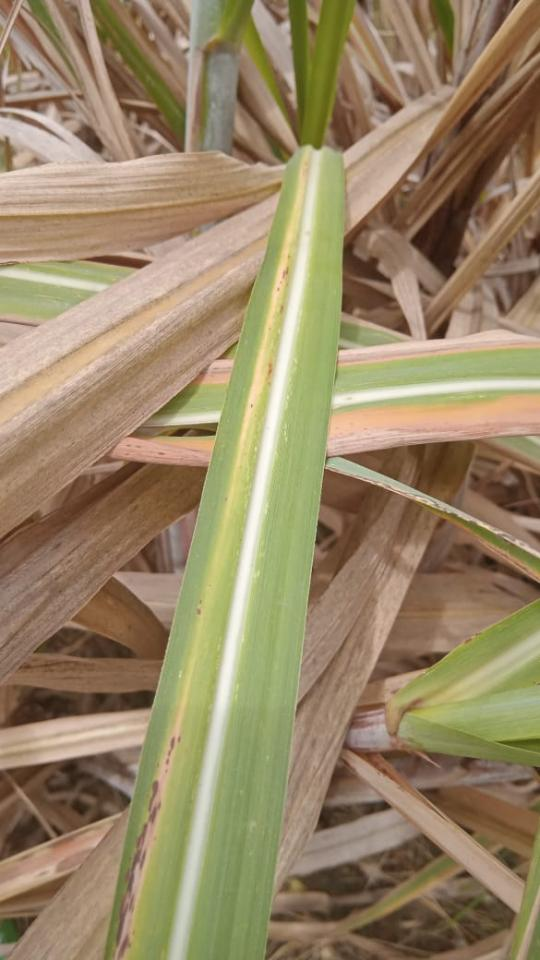Rust: (113, 821, 149, 948), (147, 800, 162, 826), (148, 780, 159, 811), (117, 933, 129, 959), (138, 848, 148, 871), (167, 737, 176, 757), (128, 893, 136, 912), (123, 868, 131, 883), (281, 266, 289, 280), (267, 363, 273, 377), (280, 303, 285, 314), (196, 608, 202, 616), (177, 736, 182, 743), (165, 759, 170, 765), (164, 768, 169, 774), (250, 403, 254, 409), (198, 599, 202, 604), (267, 327, 272, 331), (287, 254, 291, 259), (277, 287, 280, 292), (280, 281, 283, 284)
Yellow: (229, 147, 315, 506), (108, 701, 184, 960), (330, 396, 539, 439)
